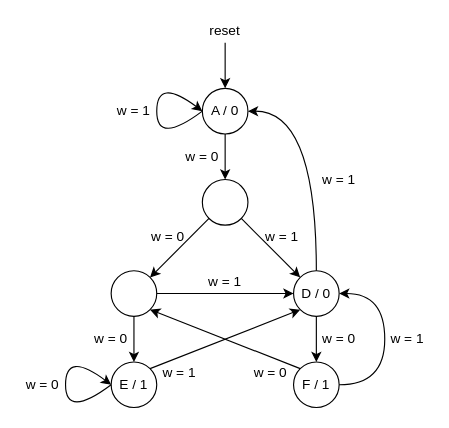
The diagram is 449 pixels wide and 428 high, and some of its shapes have lost their labels. The shapes that lost their labels are listed below. From the top down, each one's centre as x and y in pixels, then its label:
At (x=224, y=201): "B / 0".
At (x=133, y=293): "C / 0".
